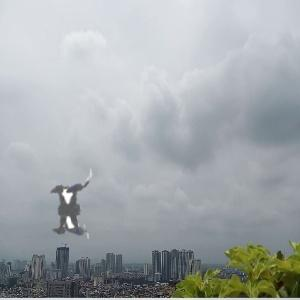drone: (3, 148, 135, 280)
